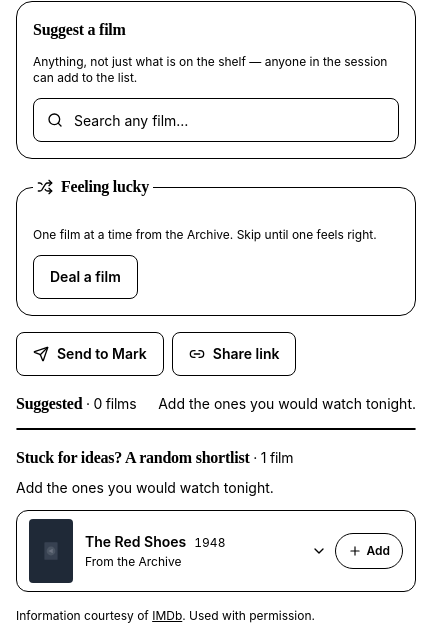
Test: says when a score and runtime are unavailable and keeps a Letterboxd search link
(page scrolled)
Click the button "The Red Shoes 1948 From the Archive": point(178, 551) 29,519 -> 328,583
(page scrolled)
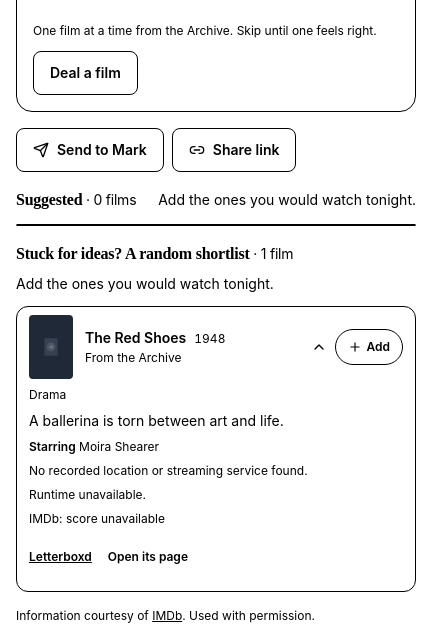
Check: the text "Runtime unavailable." is shown, box 29,487 -> 146,502
Check: the text "IMDb: score unavailable" is shown, box 29,511 -> 165,526
